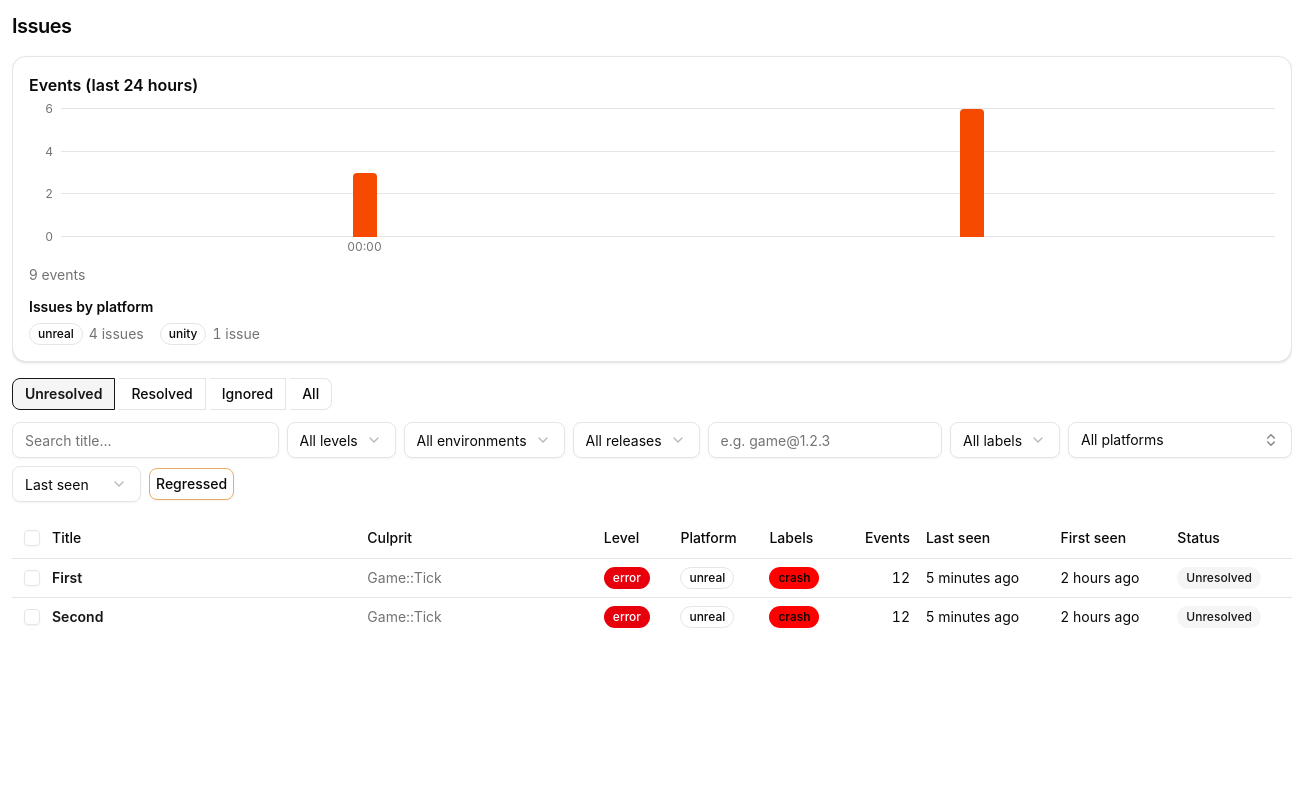
Test: IssuesPage › bulk resolves, refreshes the first page and clears the selection
Expected: the link "First" is shown, [52,568,82,586]
Step 1. Click the checkbox named "Select issue 1" → (32, 578), box [24,570,40,586]
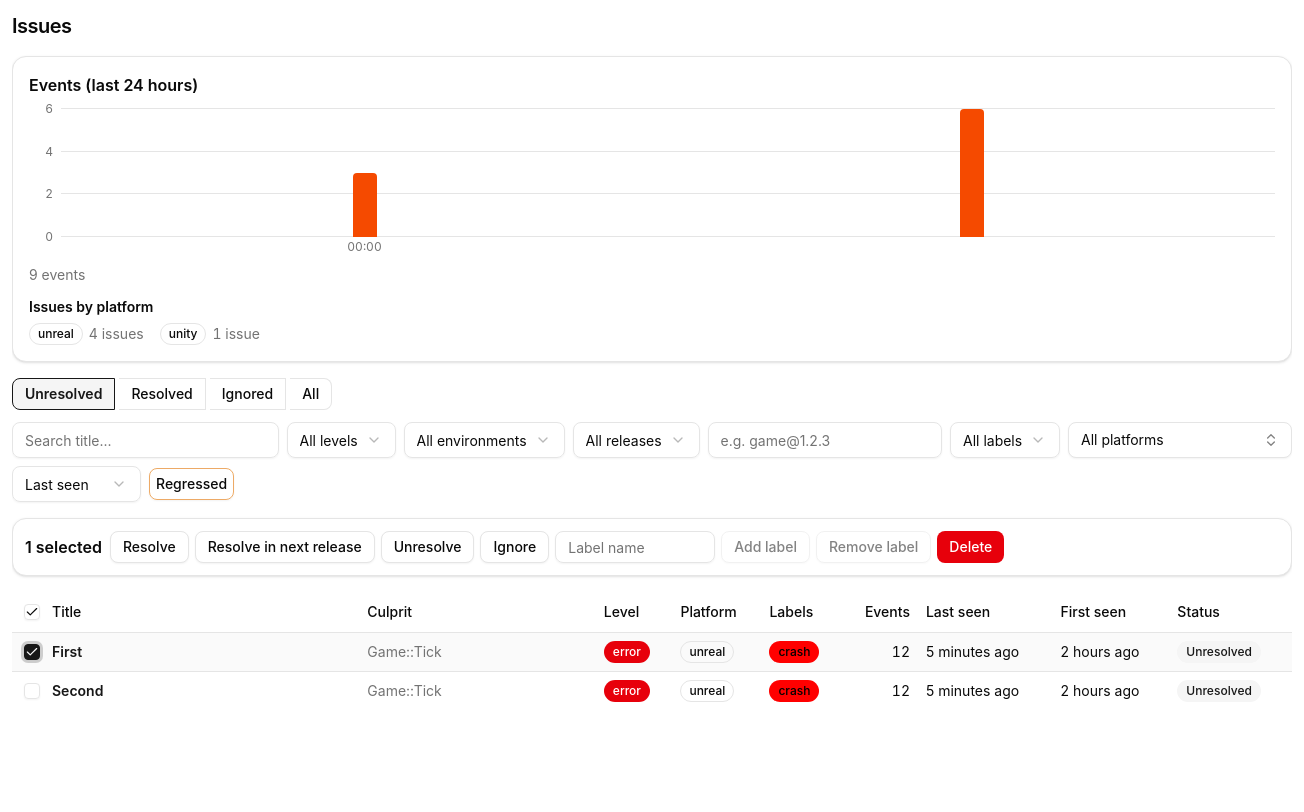
Step 2. Click the checkbox named "Select issue 2" → (32, 690), box [24,682,40,698]
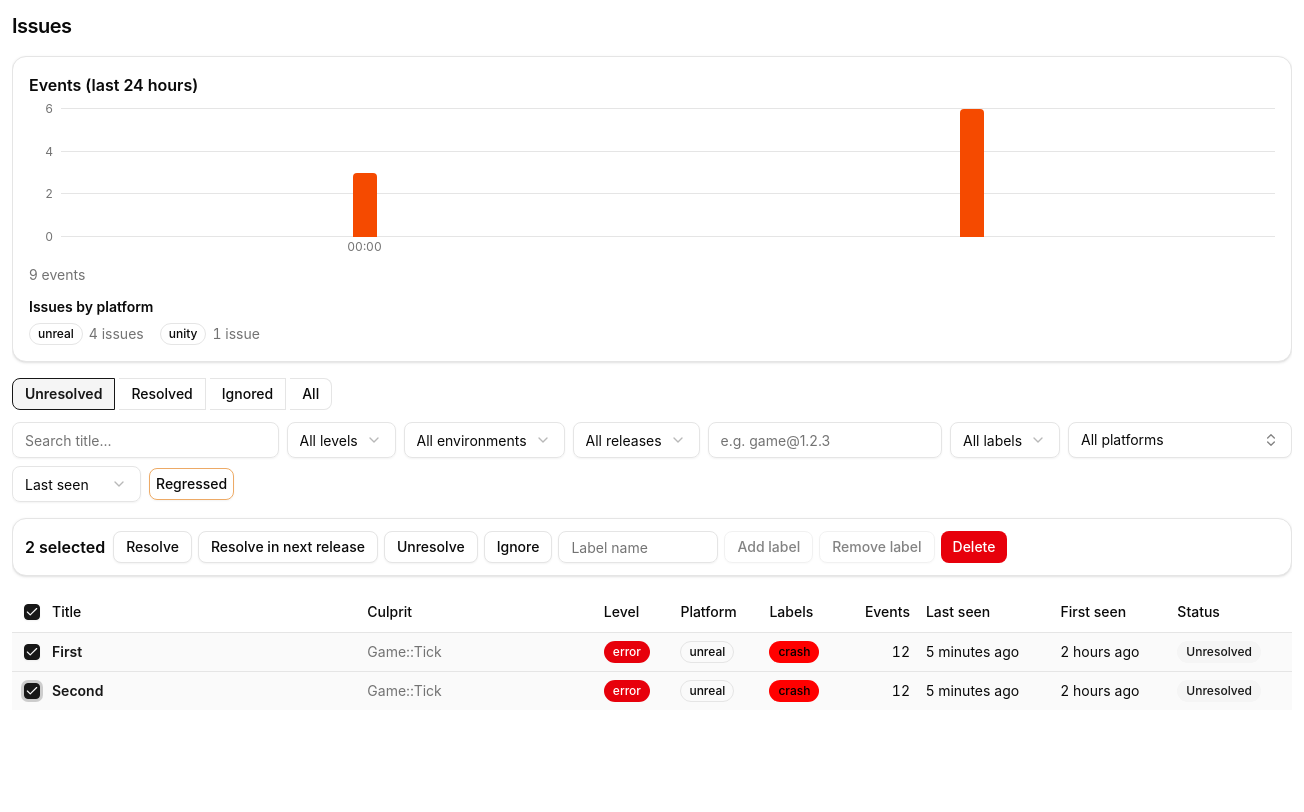
Expected: the text "2 selected" is shown, [25,535,105,559]
Step 3. Click the button "Resolve" → (153, 547), box [113,531,192,563]
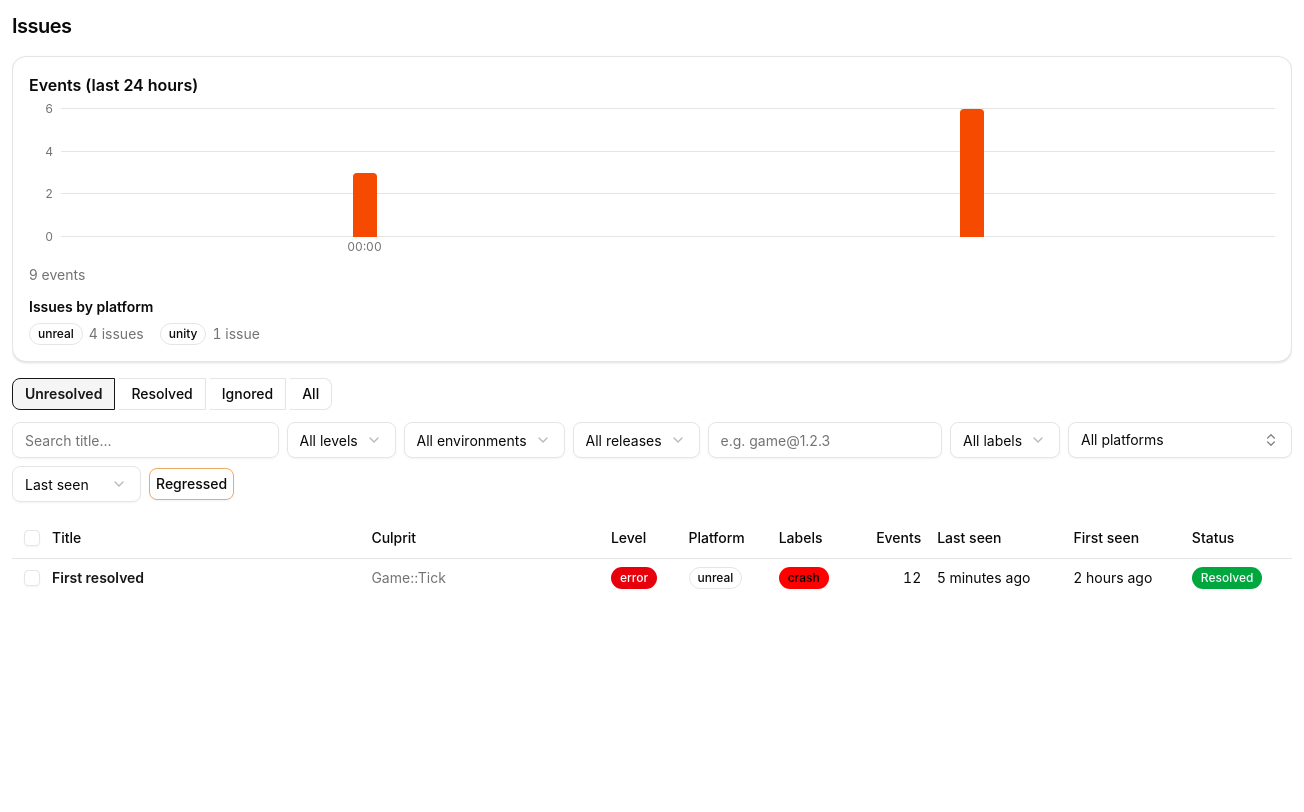
Expected: the checkbox named "Select issue 1" is not checked, [24,570,40,586]
Expected: the link "First resolved" is shown, [52,568,144,586]
Expected: the text "2 selected" is gone
